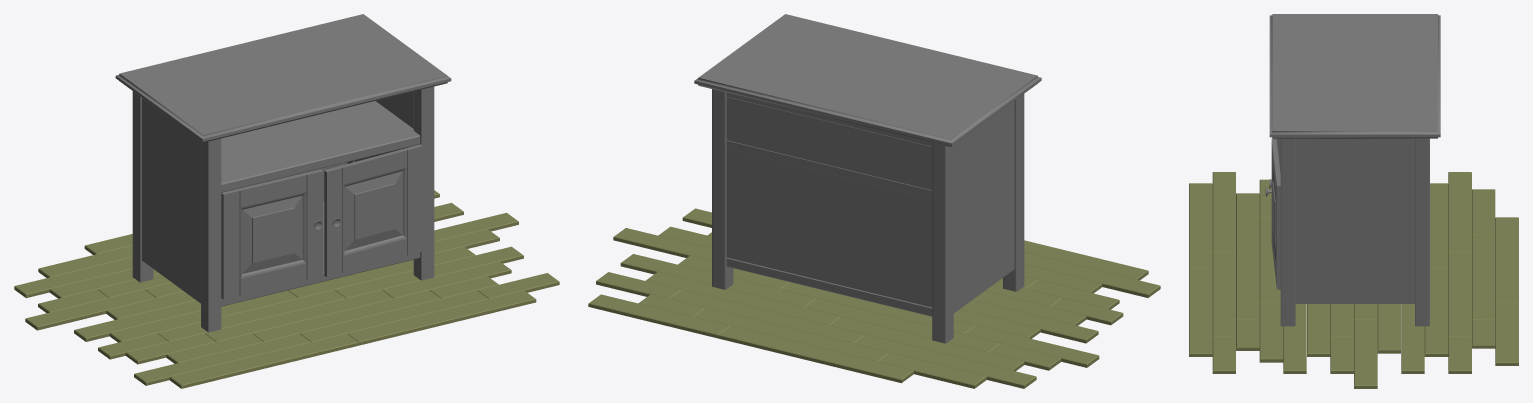
The model's file is tvstand.fbx.
3 views of the same model, side by side, from view 1: azimuth 30°, elevation 25°; view 2: azimuth 150°, elevation 25°; view 3: azimuth 270°, elevation 25° (orthographic). The views are drawn at different scales.
Parts seen in each view (by area): view 1: Stand, floor, StandLeftDoor, StandRightDoor; view 2: Stand, floor; view 3: Stand, floor, StandRightDoor.
Boxes of the visible parts, x1,y1,x2,y2 form: Stand: (115,14,451,332); floor: (14,190,559,388); StandLeftDoor: (221,169,323,299); StandRightDoor: (324,144,422,277); Stand: (694,14,1041,343); floor: (588,208,1160,388); Stand: (1269,14,1440,326); floor: (1189,172,1518,388); StandRightDoor: (1265,138,1280,289).
Bounding box in the file's own units: 1589 × 669 × 983.
